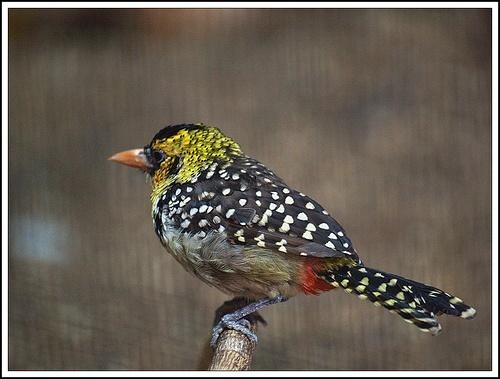bird: (107, 122, 478, 348)
